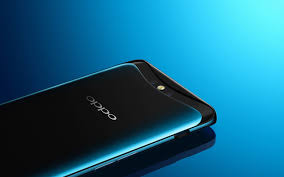oppo: (1, 55, 217, 176)
